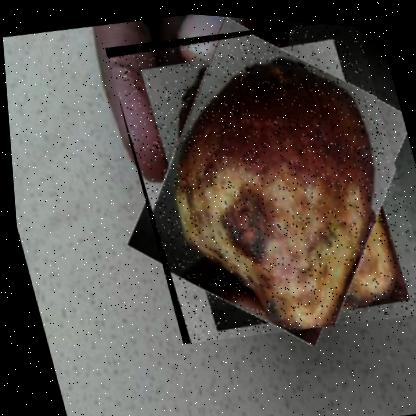guava_rotten: (101, 5, 415, 359)
